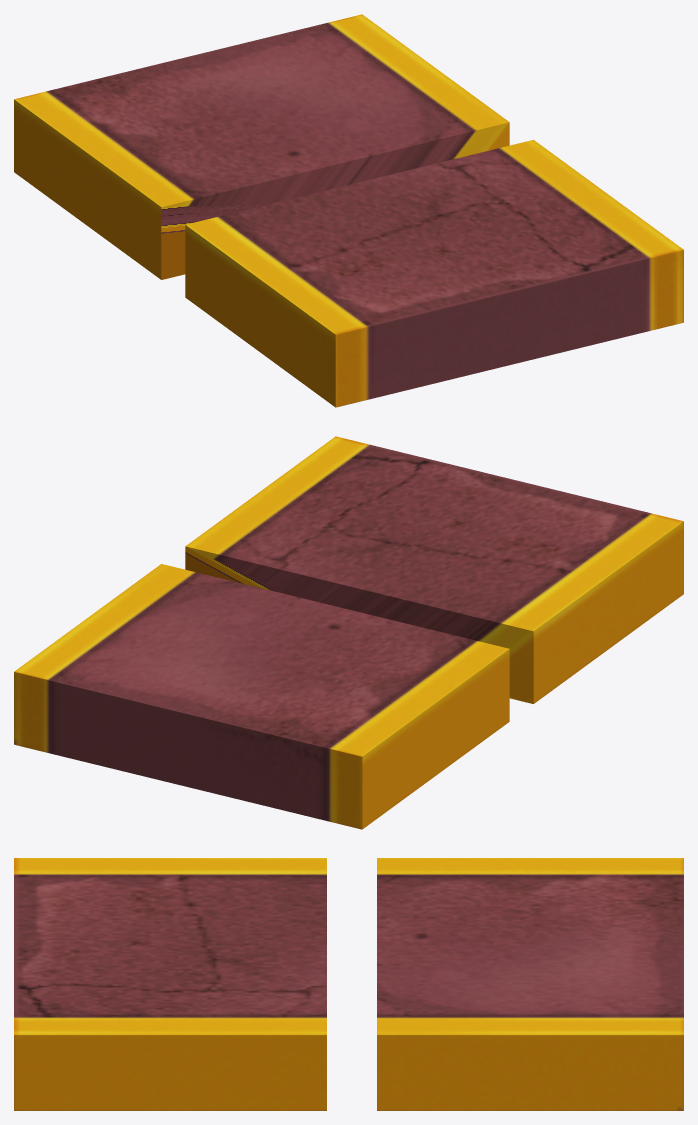
File: Split_path_thin.fbx
The picture shows the model from 3 angles, top to bottom: view 1: azimuth 30°, elevation 25°; view 2: azimuth 150°, elevation 25°; view 3: azimuth 270°, elevation 25°; orthographic projection. The views are drawn at different scales.
Parts seen in each view (by area): view 1: group13_polySurface8; view 2: group13_polySurface8; view 3: group13_polySurface8.
Boxes of the visible parts, <box> form: group13_polySurface8: <box>14,14,683,407</box>; group13_polySurface8: <box>14,436,683,829</box>; group13_polySurface8: <box>14,858,683,1110</box>.
Bounding box in the file's own units: 2.5 × 0.5 × 4.
